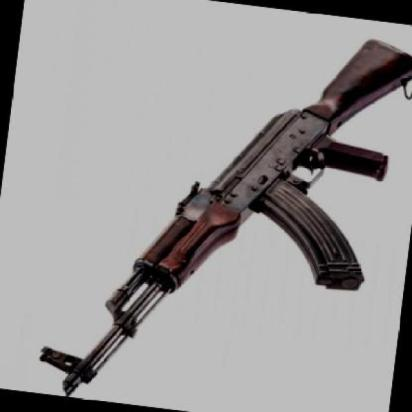Gun: (27, 0, 412, 412)
